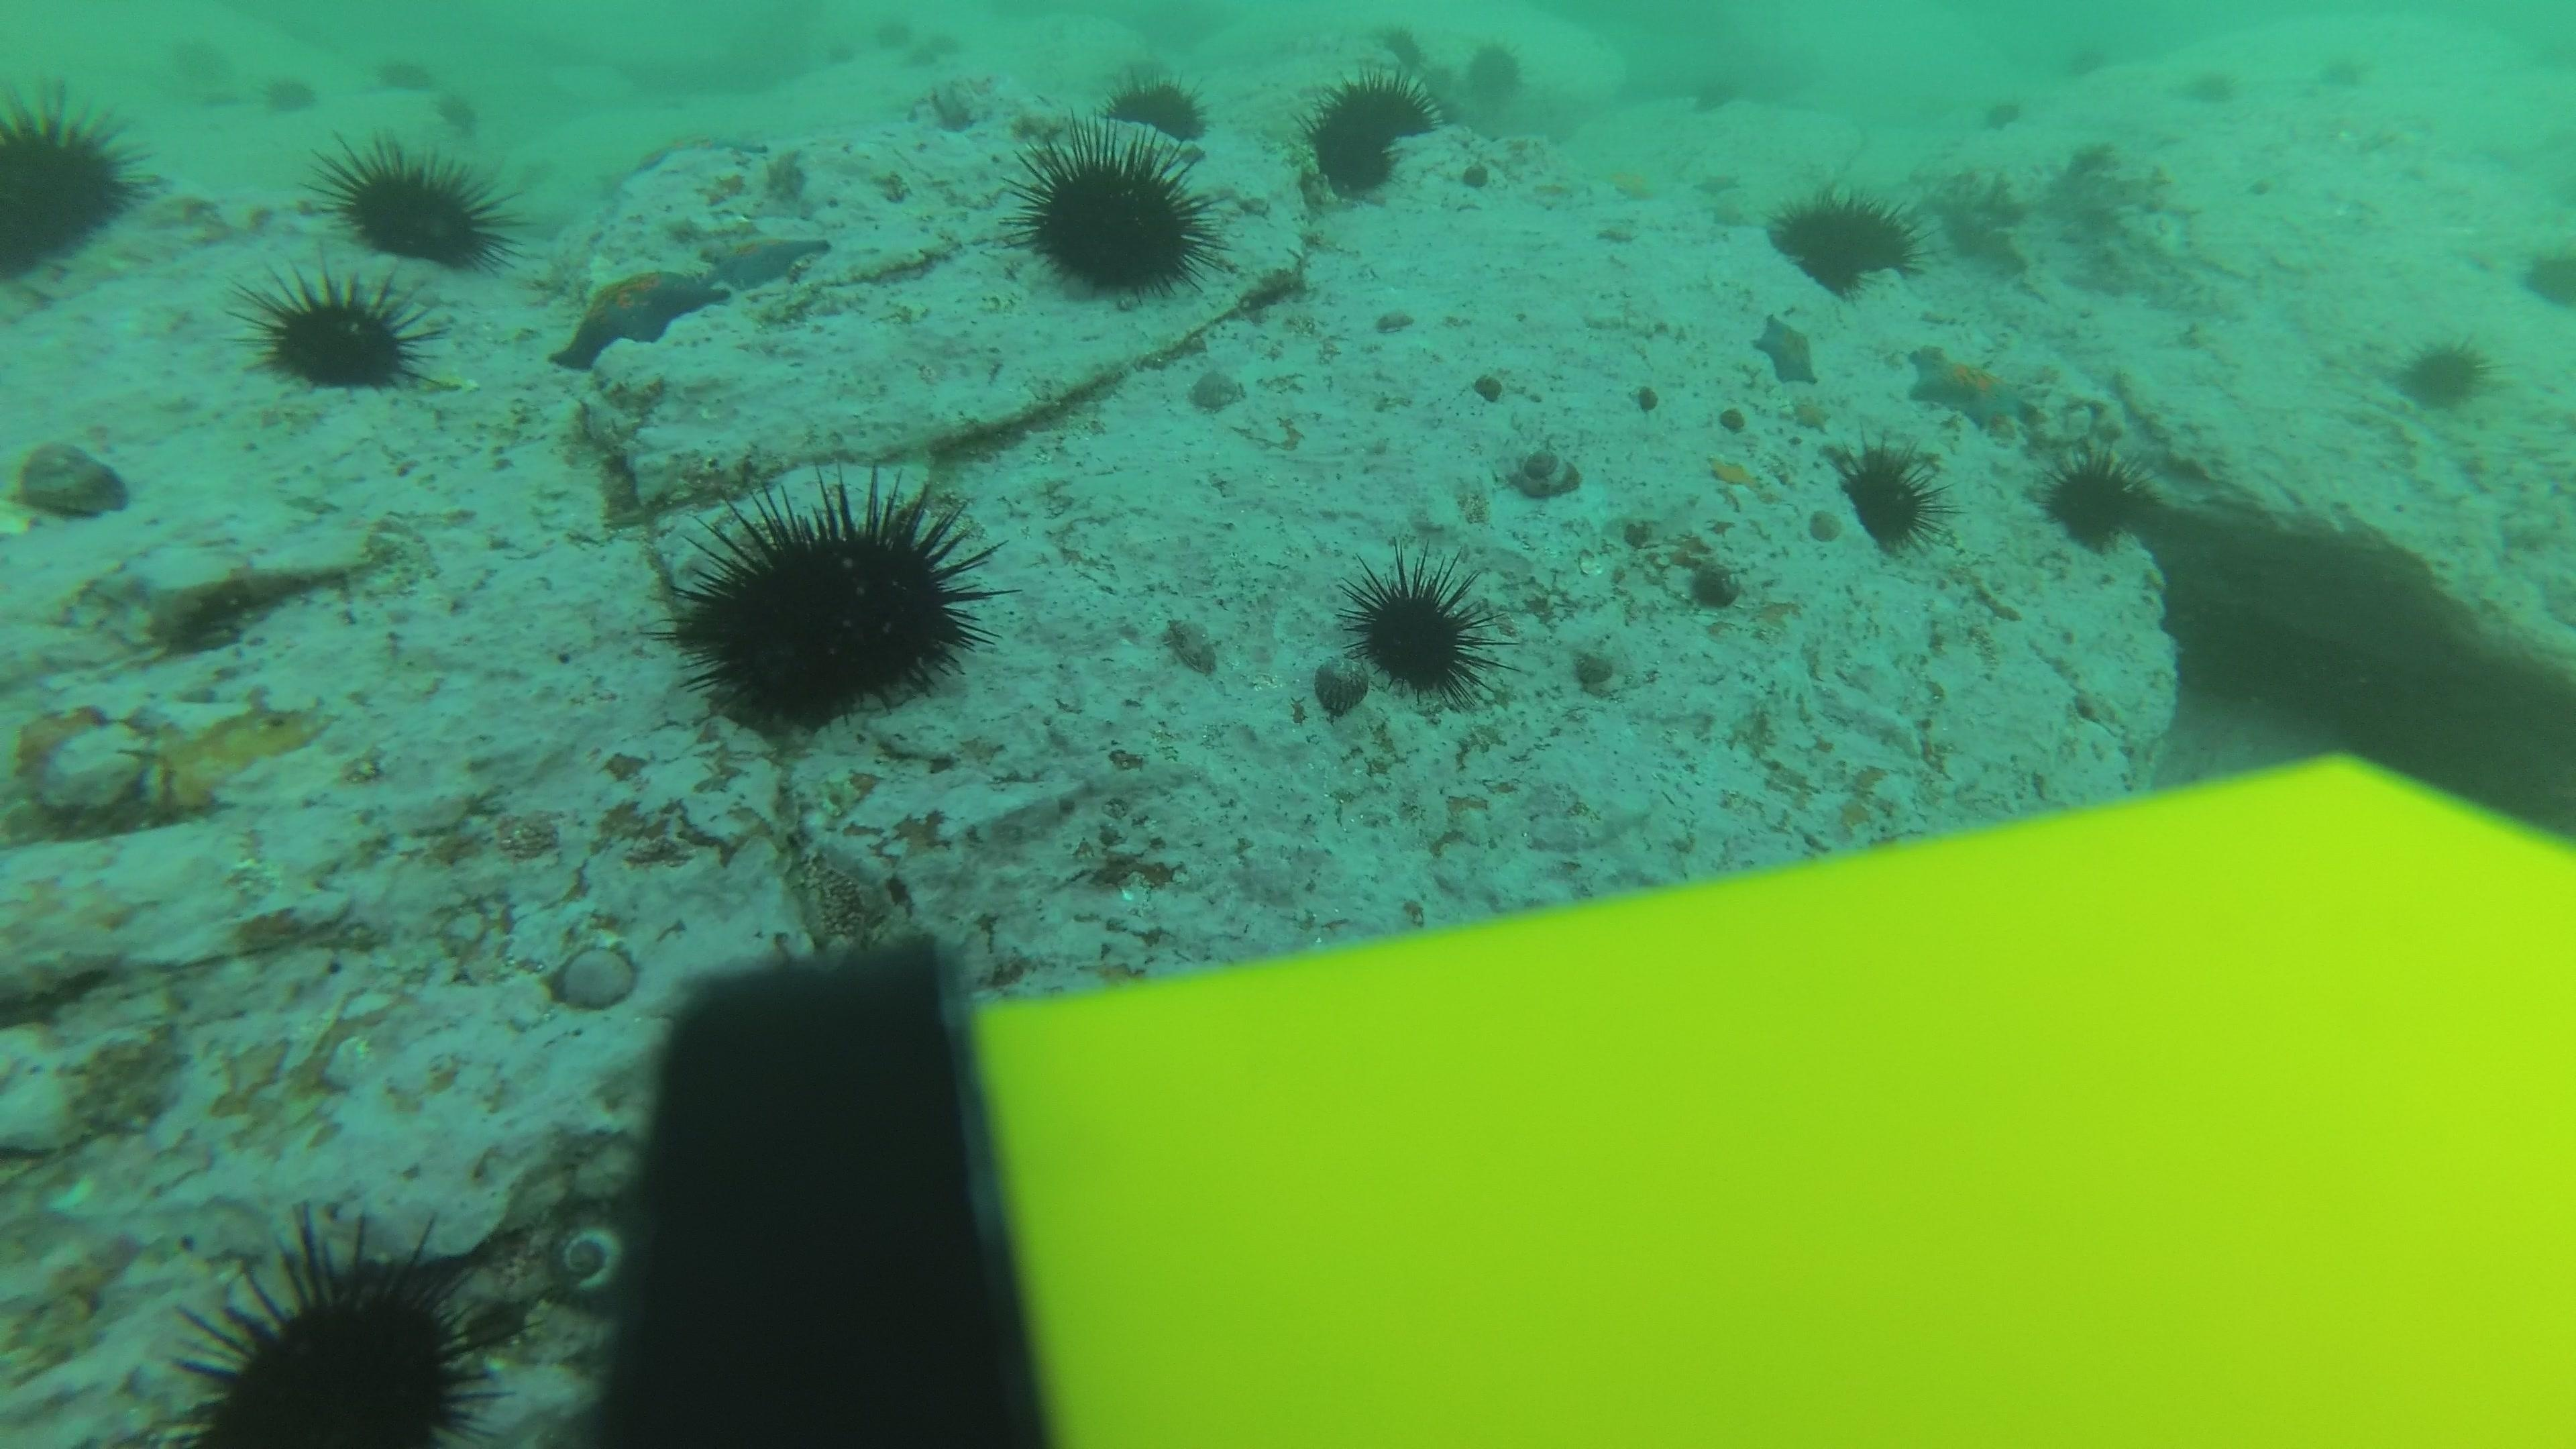echinus: (663, 465, 1000, 736), (161, 1212, 510, 1440), (1010, 122, 1219, 306), (2, 81, 149, 283), (322, 138, 515, 274), (244, 267, 433, 400), (1339, 550, 1499, 706), (1297, 65, 1437, 203), (1767, 180, 1920, 297), (1829, 437, 1946, 556), (2036, 449, 2150, 554), (2392, 329, 2495, 416), (1104, 67, 1210, 147), (1361, 9, 1438, 74), (1679, 67, 1757, 133), (1456, 35, 1532, 99), (2523, 246, 2576, 313), (1978, 83, 2026, 134), (260, 74, 317, 117), (2066, 39, 2114, 88), (2185, 58, 2233, 108), (2323, 51, 2371, 101), (375, 55, 430, 97), (908, 30, 962, 73), (421, 81, 478, 122), (810, 32, 867, 73), (920, 16, 977, 57), (863, 14, 918, 55)
starfish: (545, 262, 731, 375), (1898, 343, 2043, 435), (694, 223, 835, 294), (628, 129, 770, 184), (1750, 311, 1822, 391), (1596, 154, 1668, 207), (1704, 449, 1771, 504), (1782, 391, 1844, 435), (1690, 165, 1750, 209)
